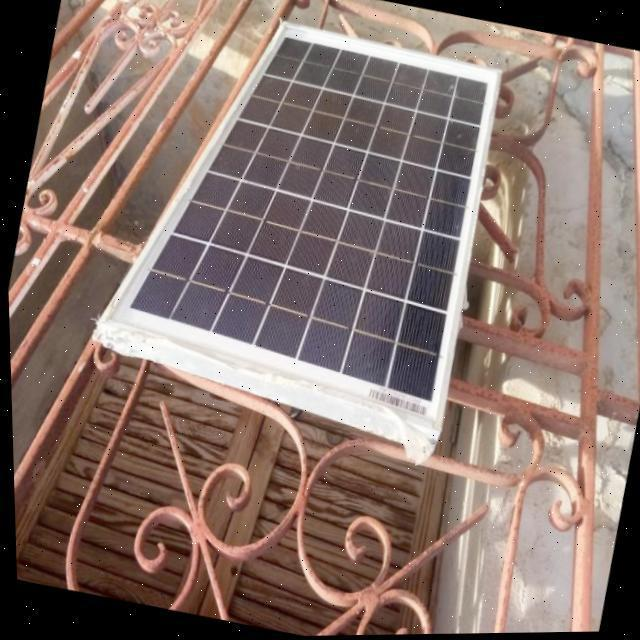Normal Solar Panel: (87, 0, 512, 434)
